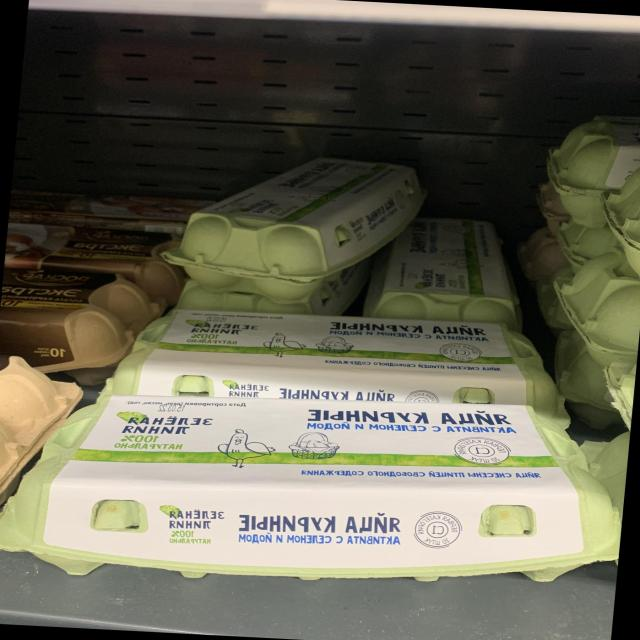organic waste: (0, 381, 632, 605), (102, 305, 567, 425), (366, 208, 523, 327)
